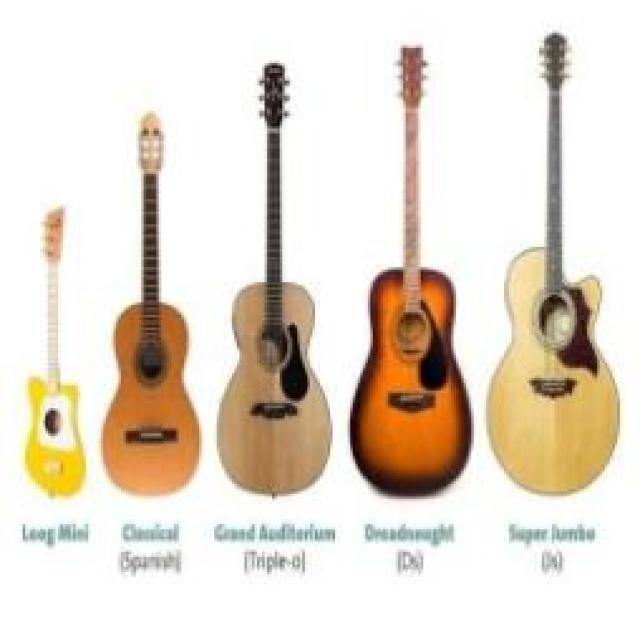acousticguitar: (489, 33, 617, 491), (350, 45, 471, 494), (217, 63, 330, 494), (101, 111, 199, 494)
